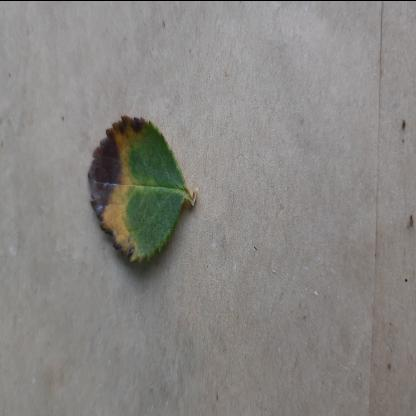black-spot: (84, 109, 194, 270)
